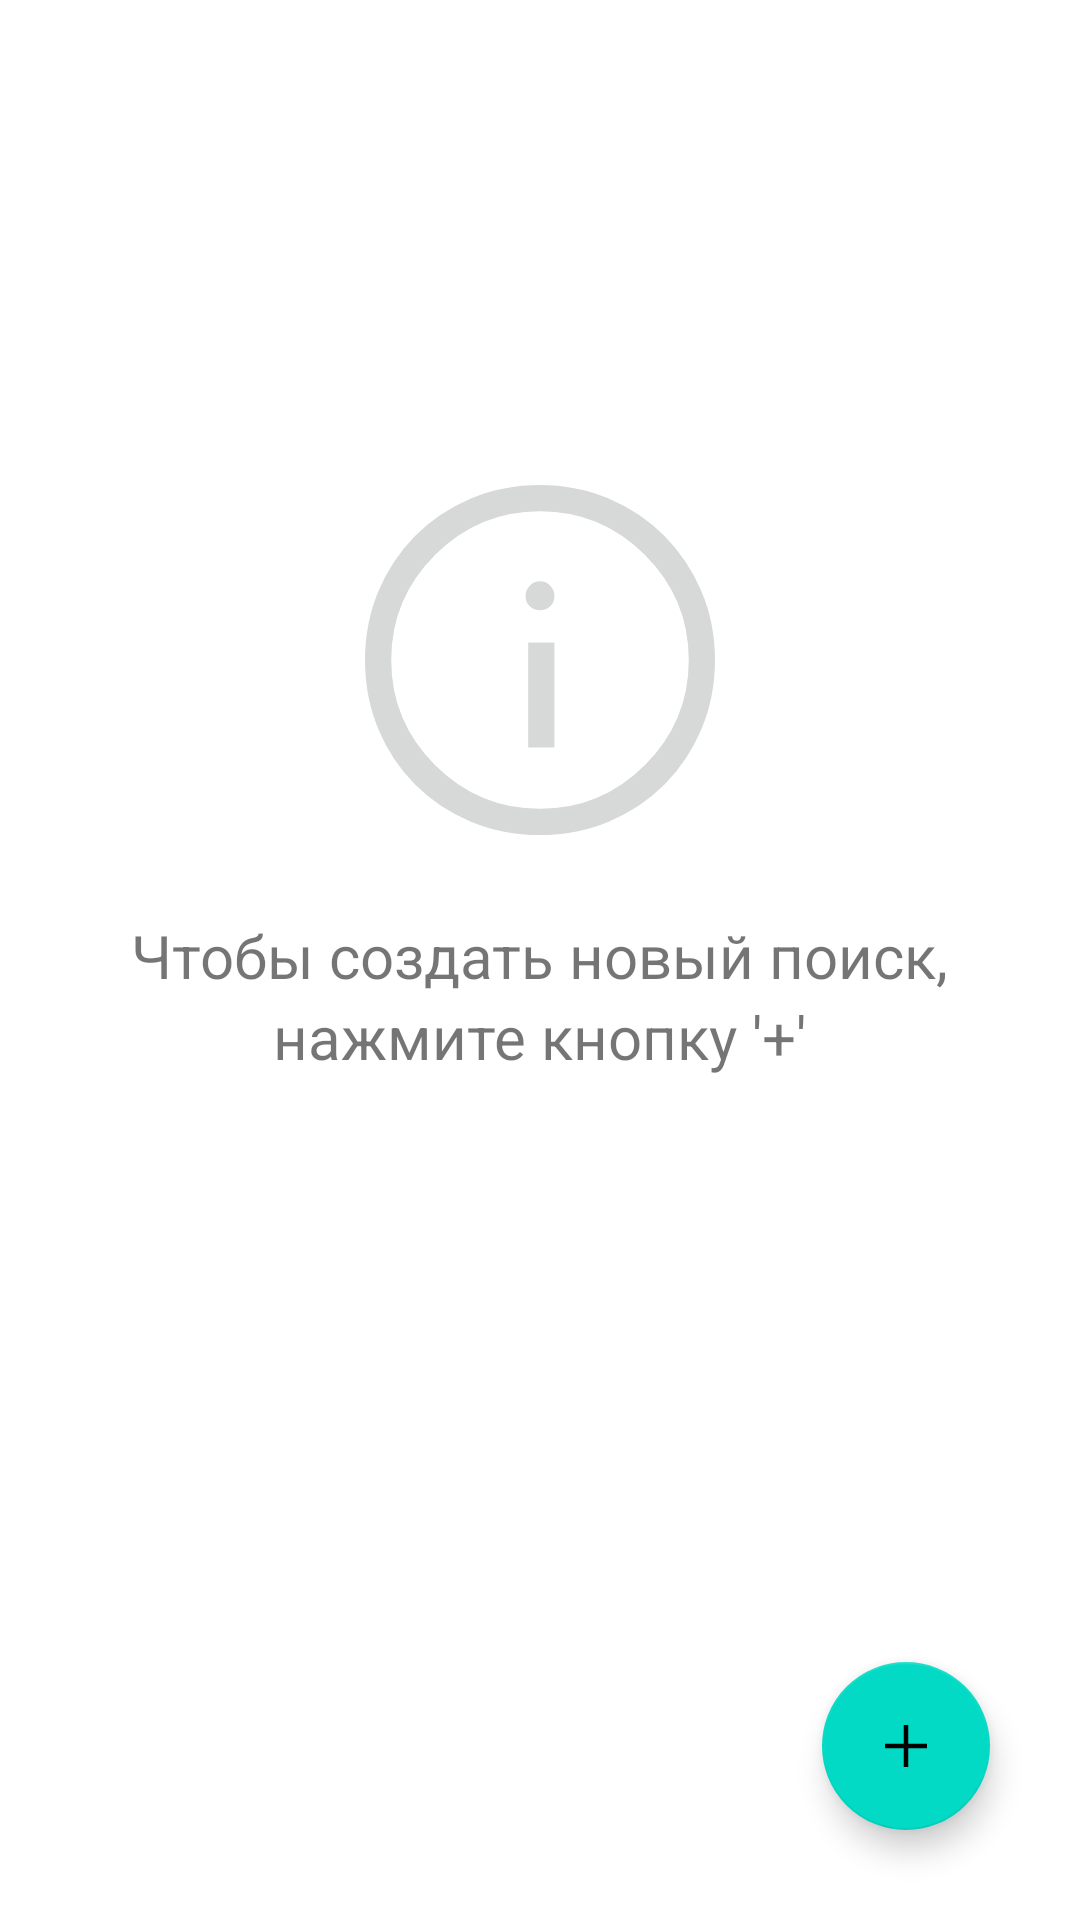

Where icons sit on this 1080 × 1920 app screen, as (x1, y1, x2, y2):
info: (365, 485, 715, 835)
plus: (822, 1662, 990, 1830)
